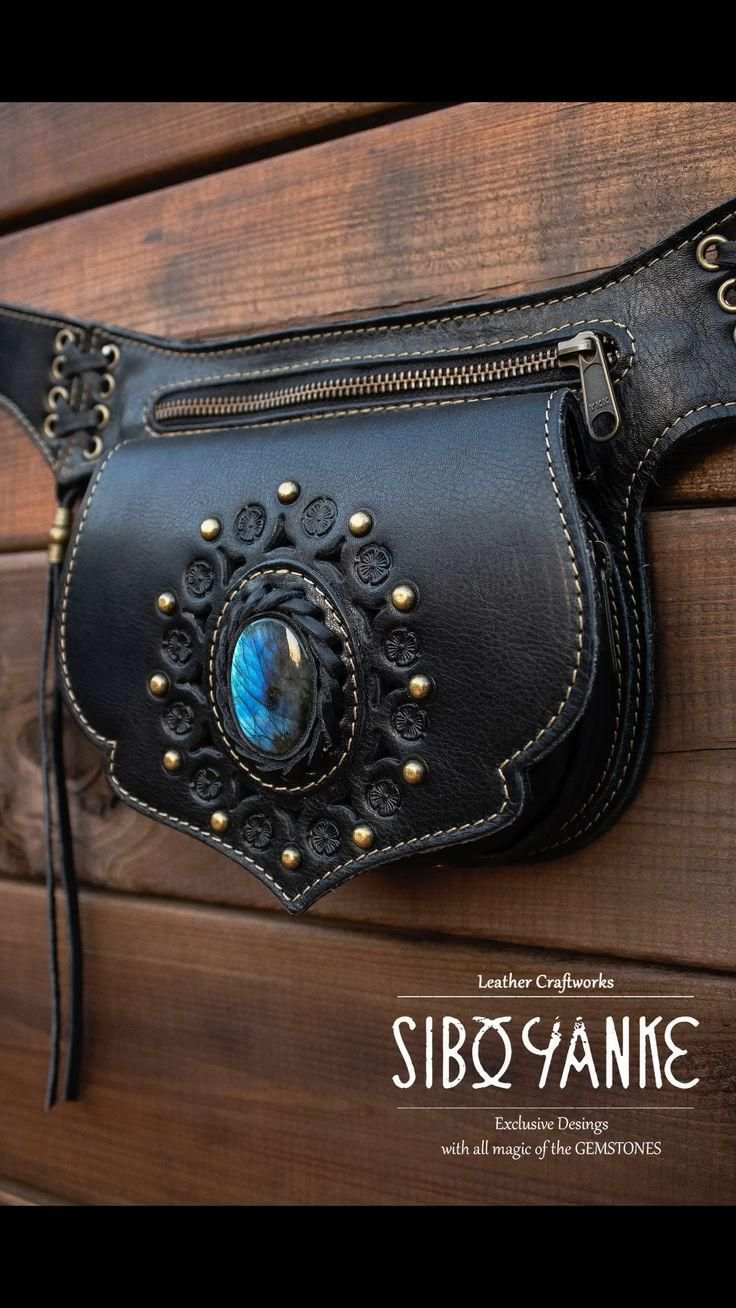cuero: (2, 193, 736, 923)
